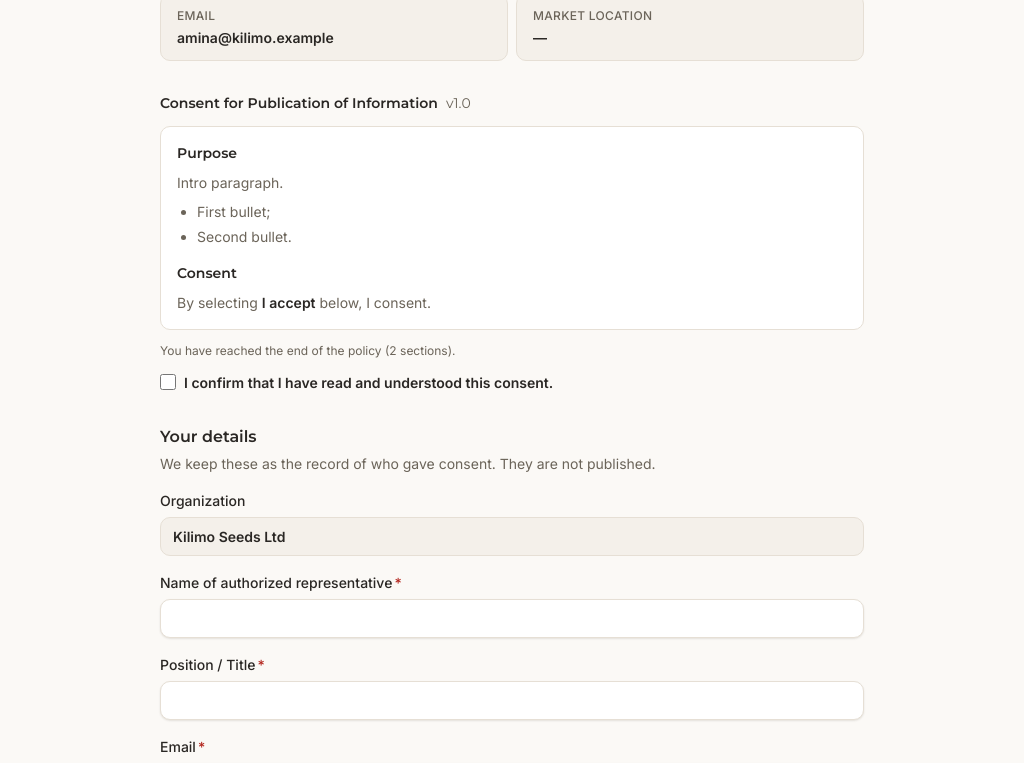
Scenario: Accept (FR-9, FR-10) › a 404 on respond (link used elsewhere) goes to the dead-end
The image size is (1024, 763).
(page scrolled)
Click the checkbox at coordinates (168, 382), box [160,374,176,390]
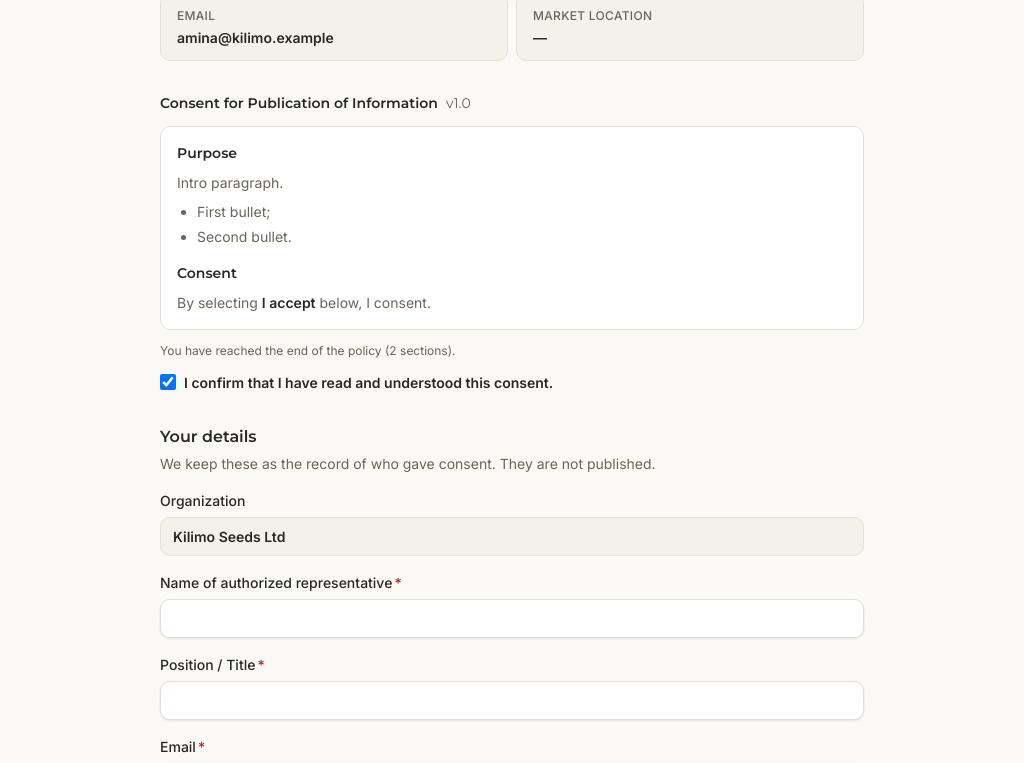
Type "Amina Juma" into the field labelled "Name of authorized representative*" at coordinates (512, 618), box [160,598,864,638]
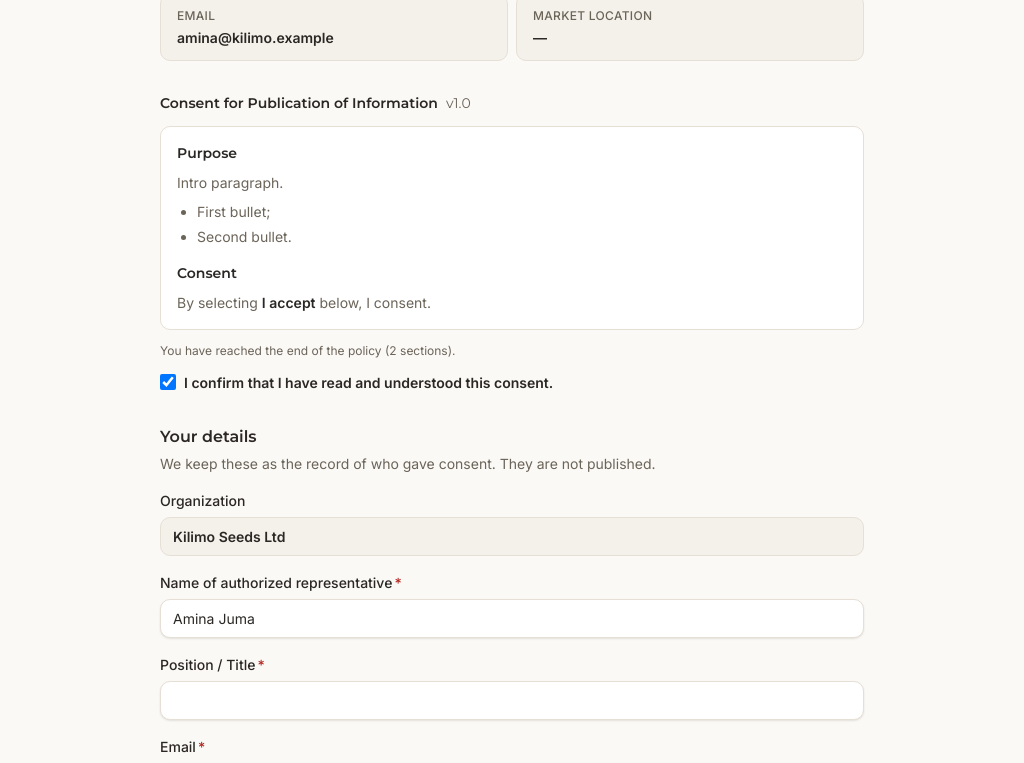
Type "Director" into the field labelled "Position / Title*" at coordinates (512, 700), box [160,680,864,720]
(page scrolled)
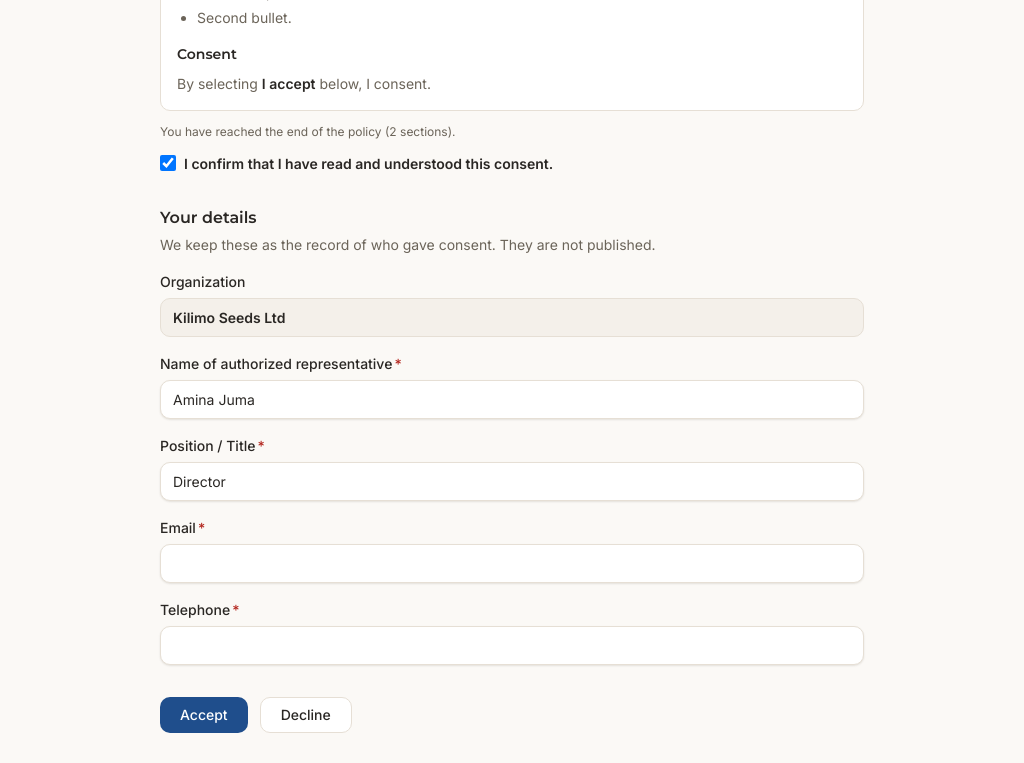
Type "amina@kilimo.example" into the field labelled "Email*" at coordinates (512, 563), box [160,544,864,582]
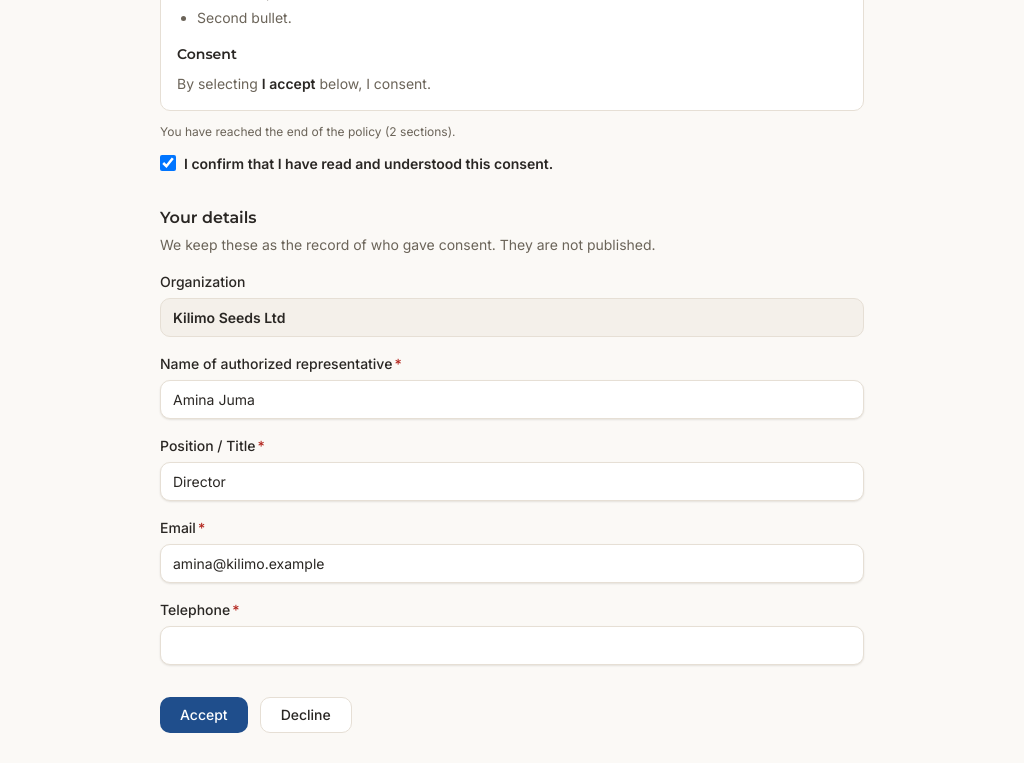
Type "+255700111222" into the field labelled "Telephone*" at coordinates (512, 645), box [160,626,864,664]
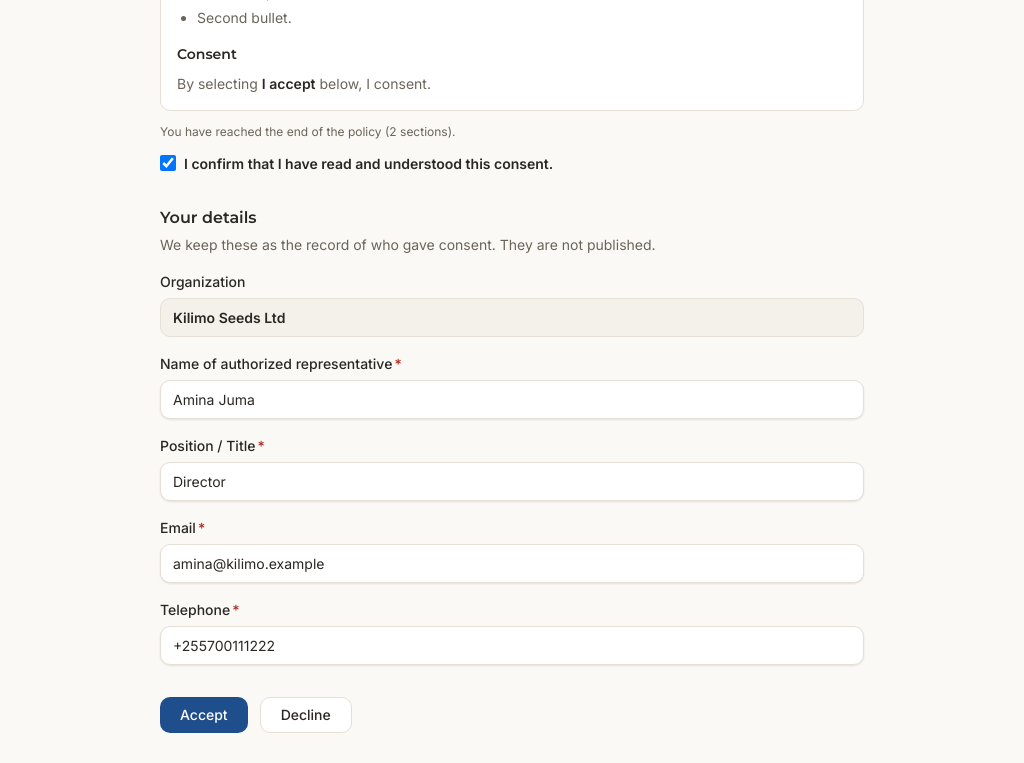
Click the button "Accept" at coordinates (204, 714), box [160,696,248,732]
(page scrolled)
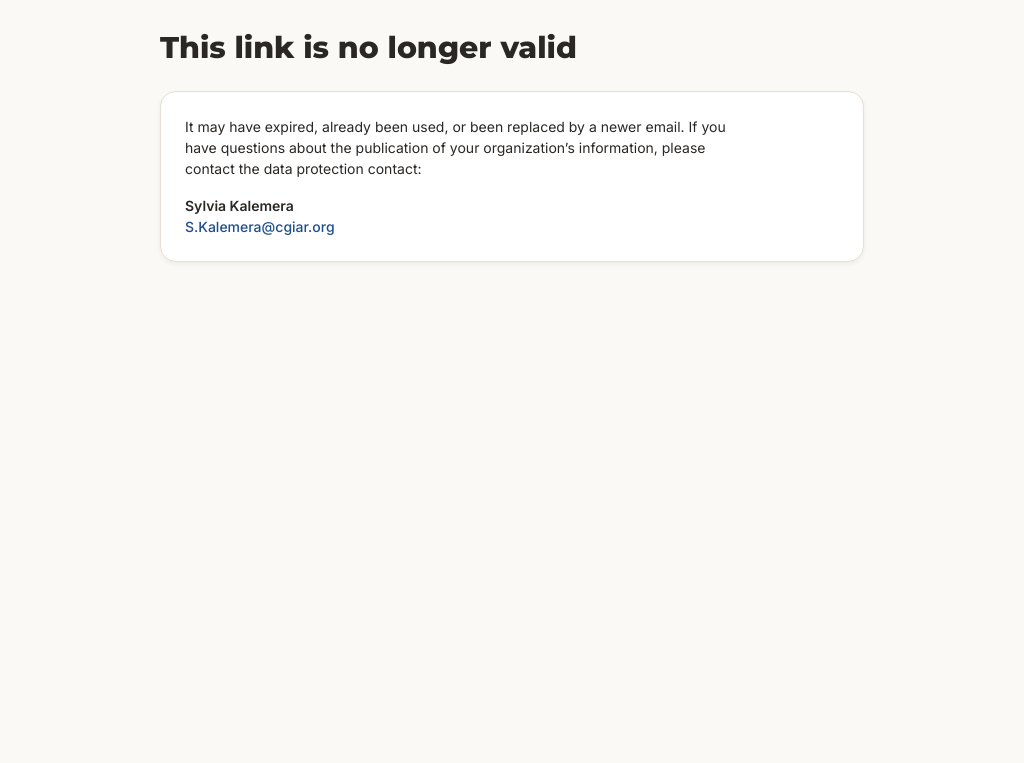
expect the heading "This link is no longer valid" is shown: met, box [160,29,577,66]
